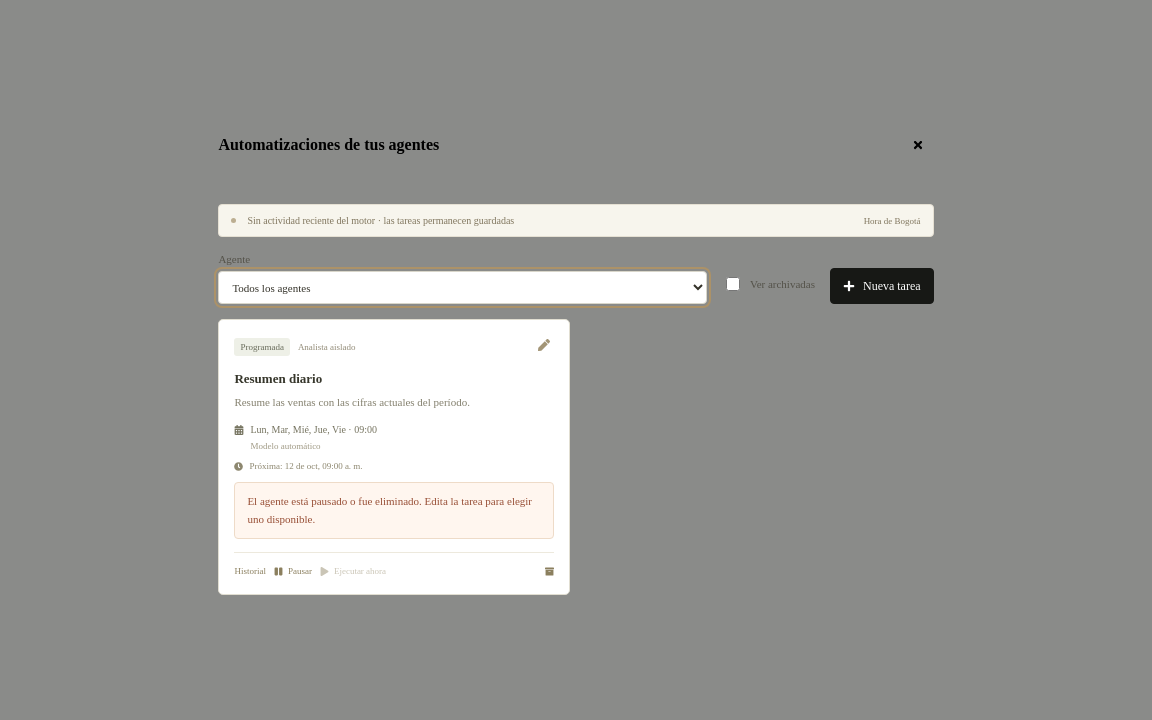
Test: Programación personal de agentes › impide iniciar una tarea sin motor o con agente no disponible; permite consultar historial
The width and height of the screenshot is (1152, 720).
Expected: the button "Ejecutar ahora" is disabled, x1=320 y1=563 x2=386 y2=579
Expected: the text "El agente está pausado" is shown, x1=247 y1=495 x2=532 y2=525
Click the button "Historial".
click(250, 571)  # box x1=234 y1=563 x2=266 y2=579
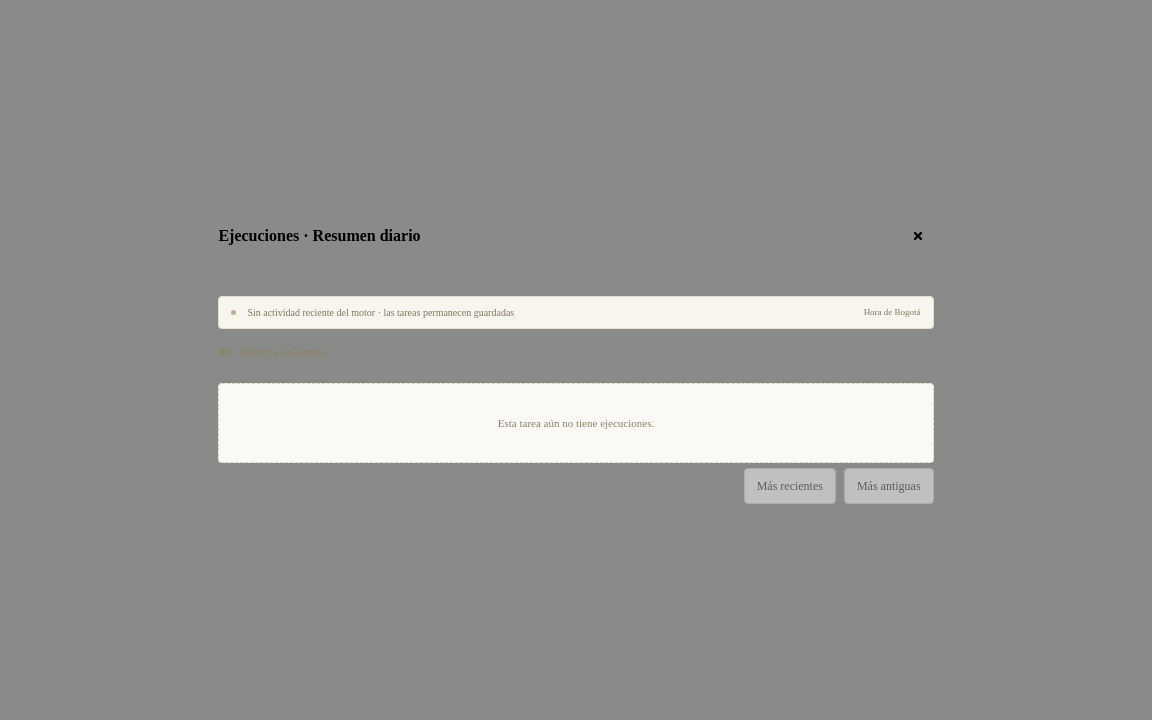
Expected: the text "Esta tarea aún no tiene ejecuciones." is shown, x1=218 y1=382 x2=934 y2=463
